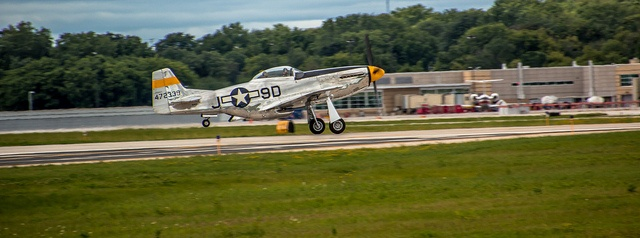airplane: (150, 64, 536, 181)
